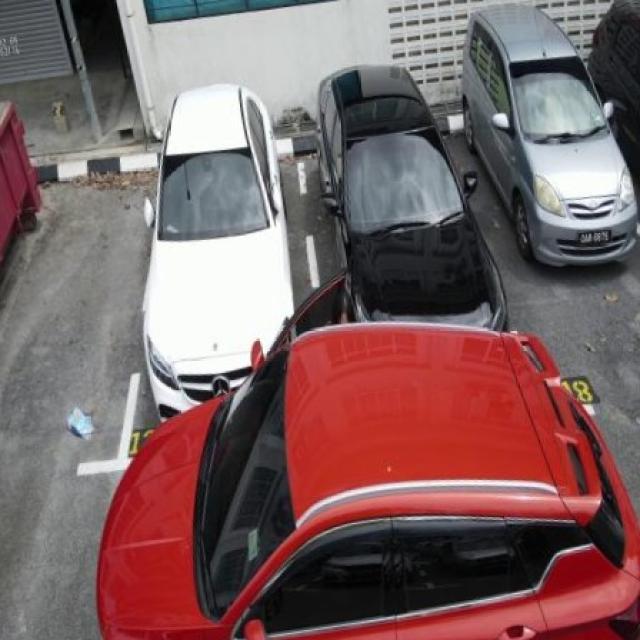Legalparking: (0, 51, 640, 432)
illegalparking: (0, 332, 640, 640)
